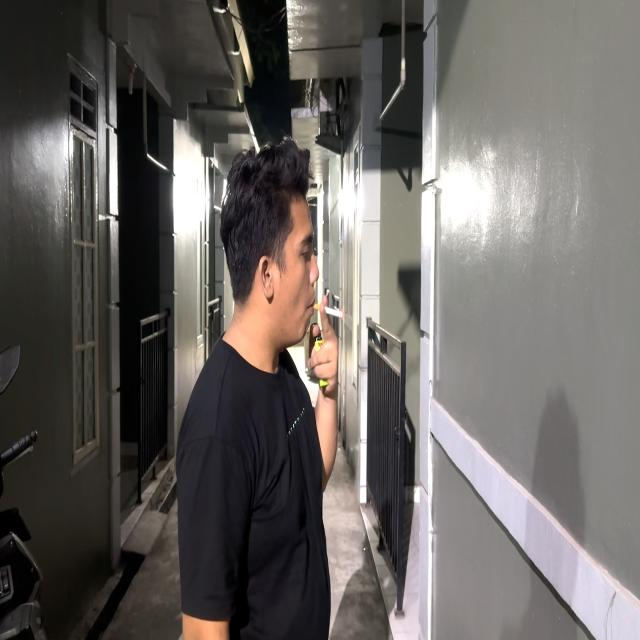cigarette: (304, 291, 351, 323)
smoking: (214, 128, 352, 497)
